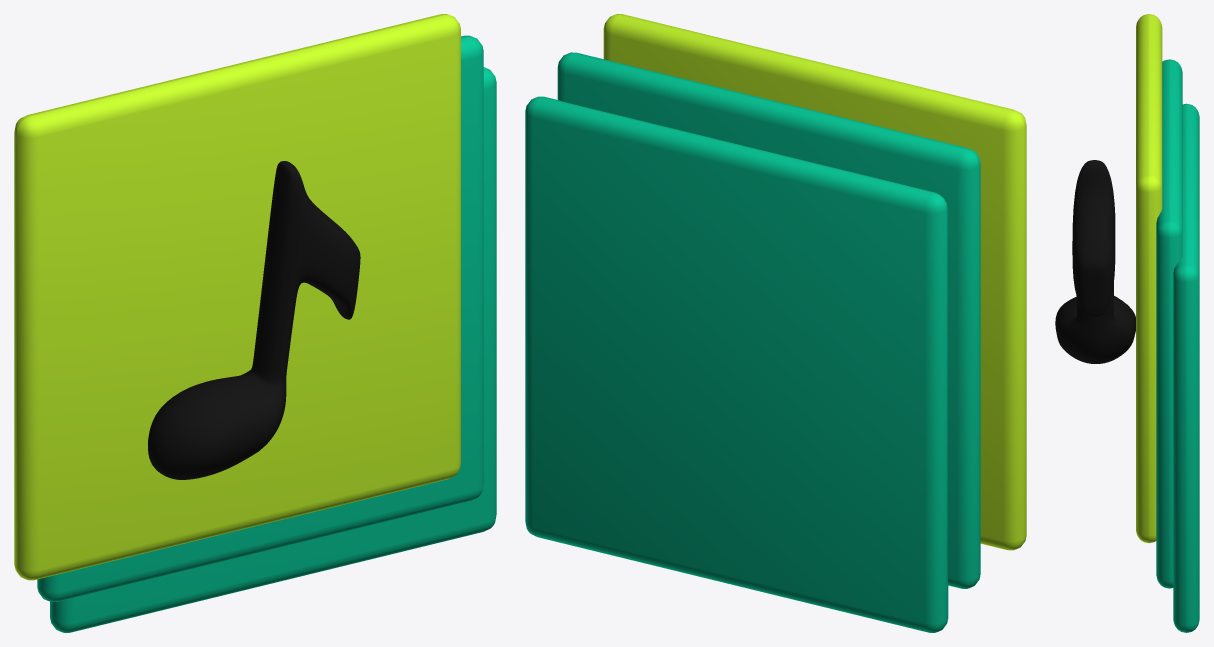
File: podcast-playlist-3d-animated-icon-898524845646.glb
3 views of the same model, side by side, from view 1: azimuth 30°, elevation 25°; view 2: azimuth 150°, elevation 25°; view 3: azimuth 270°, elevation 25° (orthographic). The views are drawn at different scales.
Visible parts, largest first — view 1: Plane.142, Cube.300, Plane.157, Plane.158; view 2: Plane.158, Plane.142, Plane.157; view 3: Plane.158, Plane.142, Plane.157, Cube.300.
Boxes of the visible parts, <box> form: Plane.142: <box>14,14,460,580</box>; Cube.300: <box>148,161,360,479</box>; Plane.157: <box>37,35,483,601</box>; Plane.158: <box>50,67,496,632</box>; Plane.158: <box>525,96,948,632</box>; Plane.142: <box>603,14,1026,550</box>; Plane.157: <box>557,52,980,588</box>; Plane.158: <box>1173,103,1199,632</box>; Plane.142: <box>1136,14,1162,543</box>; Plane.157: <box>1156,59,1182,588</box>; Cube.300: <box>1055,160,1135,363</box>.
Bounding box in the file's own units: 4.79 × 5 × 1.51.
